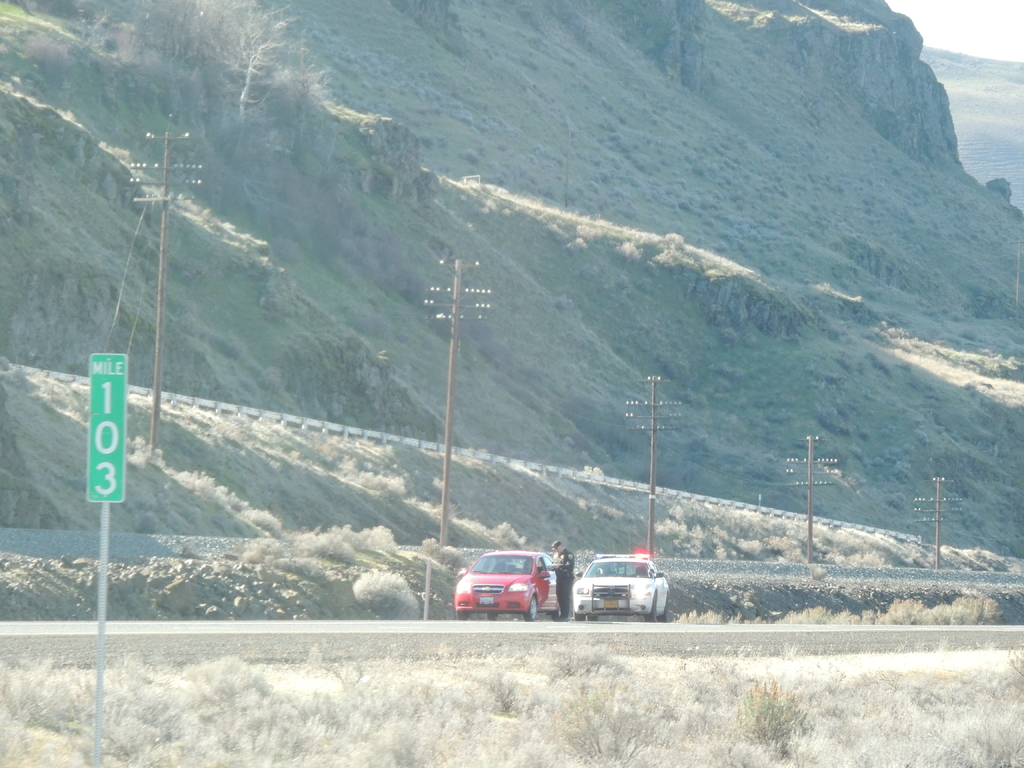Car: (442, 559, 564, 627), (568, 552, 670, 621)
